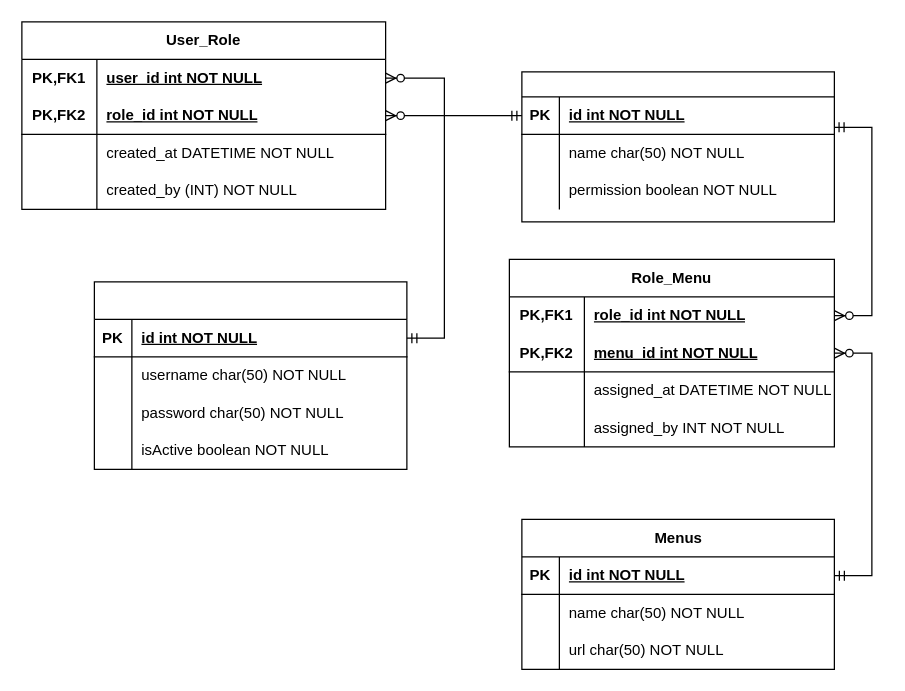
Image size: 905x691. Some labels were removed from this diagram. Here are the shapes that lost their labels. From the top down, the box of each, then its label:
(521, 71, 834, 222): Roles
(93, 281, 407, 469): Users
